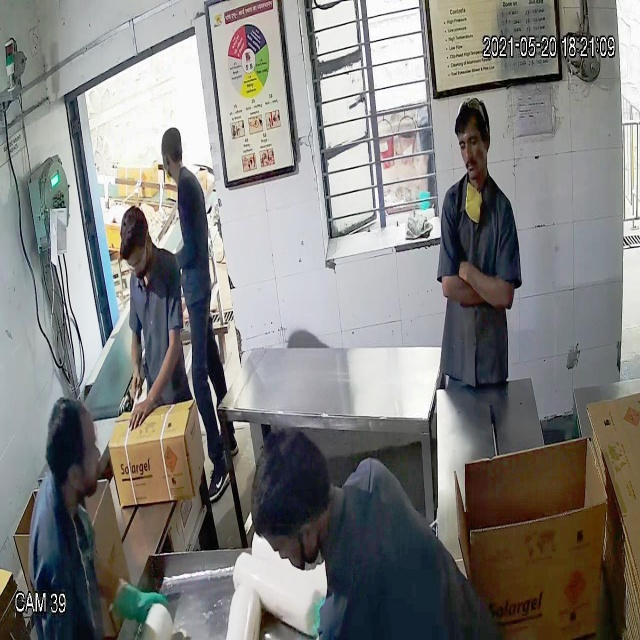Sin_gafas: (455, 126, 488, 154)
